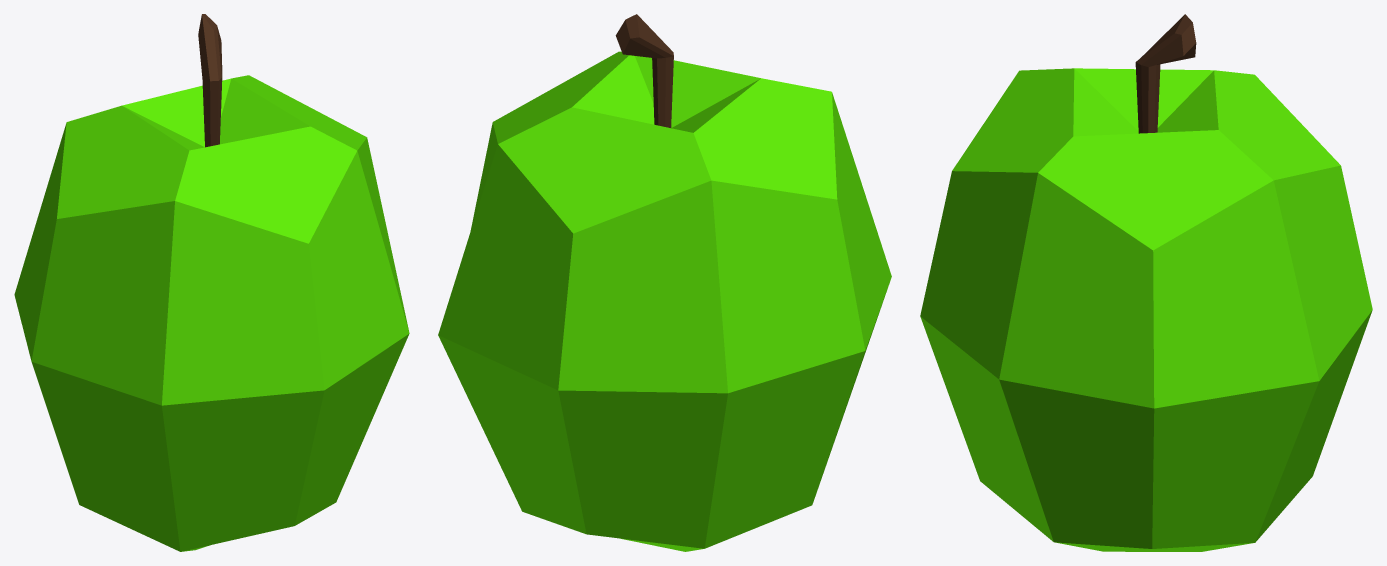
Rendered from apple.fbx.
3 views of the same model, side by side, from view 1: azimuth 30°, elevation 25°; view 2: azimuth 150°, elevation 25°; view 3: azimuth 270°, elevation 25° (orthographic). The views are drawn at different scales.
Parts seen in each view (by area): view 1: Cube.002; view 2: Cube.002; view 3: Cube.002.
Boxes of the visible parts, bbox=[...] form: Cube.002: bbox=[14, 14, 409, 551]; Cube.002: bbox=[438, 14, 891, 551]; Cube.002: bbox=[920, 14, 1372, 551].
Size of the model in its own units: 121 by 154 by 121.
